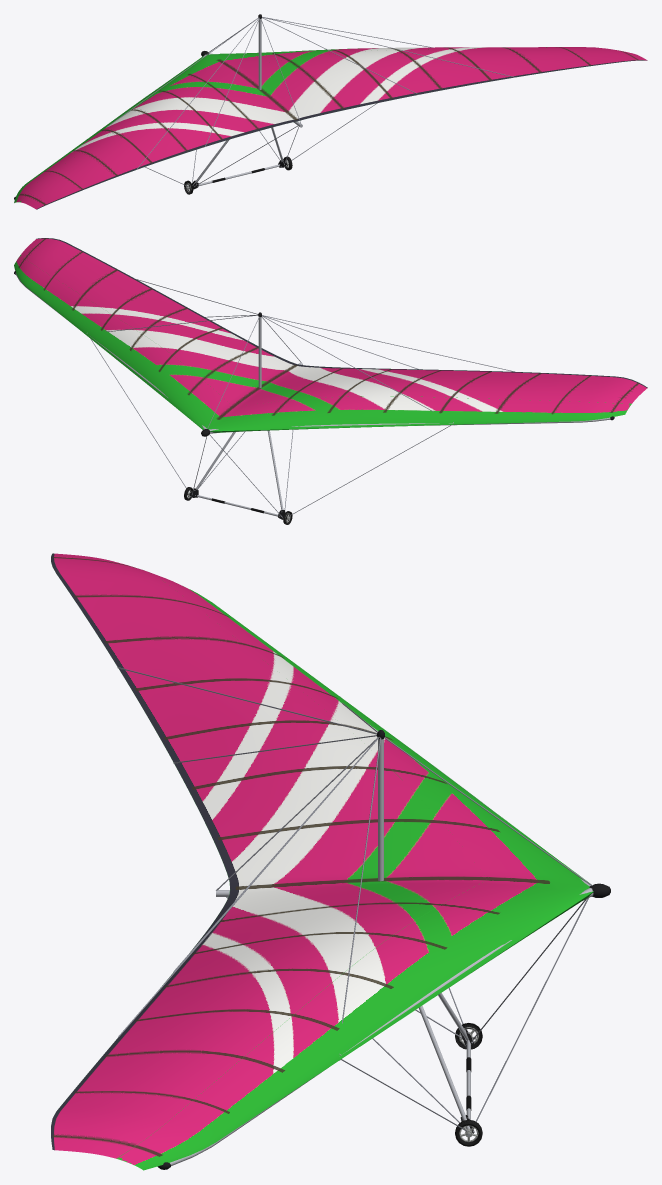
The model's file is glider_air_f2.glb.
3 views of the same model, one above another, from view 1: azimuth 30°, elevation 25°; view 2: azimuth 150°, elevation 25°; view 3: azimuth 270°, elevation 25° (orthographic). The views are drawn at different scales.
Parts seen in each view (by area): view 1: Sail, Frame, ControlFrame; view 2: Sail, Frame, ControlFrame; view 3: Sail, Frame, ControlFrame.
Boxes of the visible parts, left/top/right/bottom form: Sail: left=14, top=47, right=647, bottom=209; Frame: left=14, top=14, right=515, bottom=199; ControlFrame: left=145, top=103, right=377, bottom=194; Sail: left=14, top=238, right=647, bottom=432; Frame: left=14, top=270, right=614, bottom=436; ControlFrame: left=90, top=339, right=450, bottom=524; Sail: left=51, top=553, right=593, bottom=1170; Frame: left=117, top=667, right=610, bottom=1169; ControlFrame: left=226, top=896, right=588, bottom=1146.
Size of the model in its own units: 10.1 by 2.9 by 4.01.
10 materials, 2 textured.
